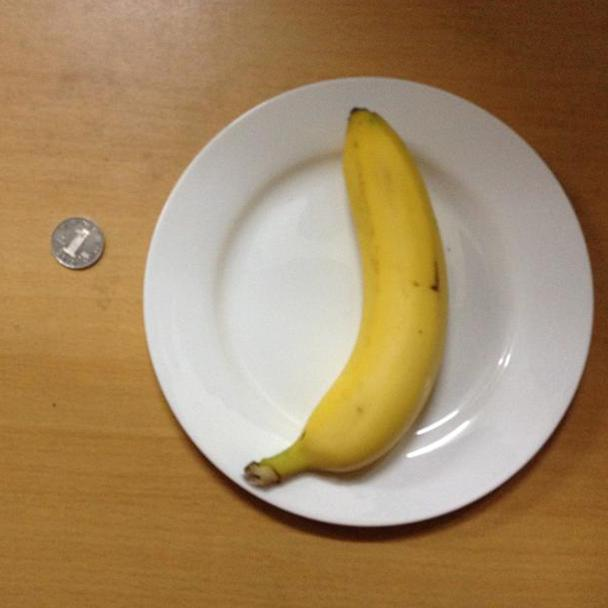banana: (297, 106, 460, 472)
